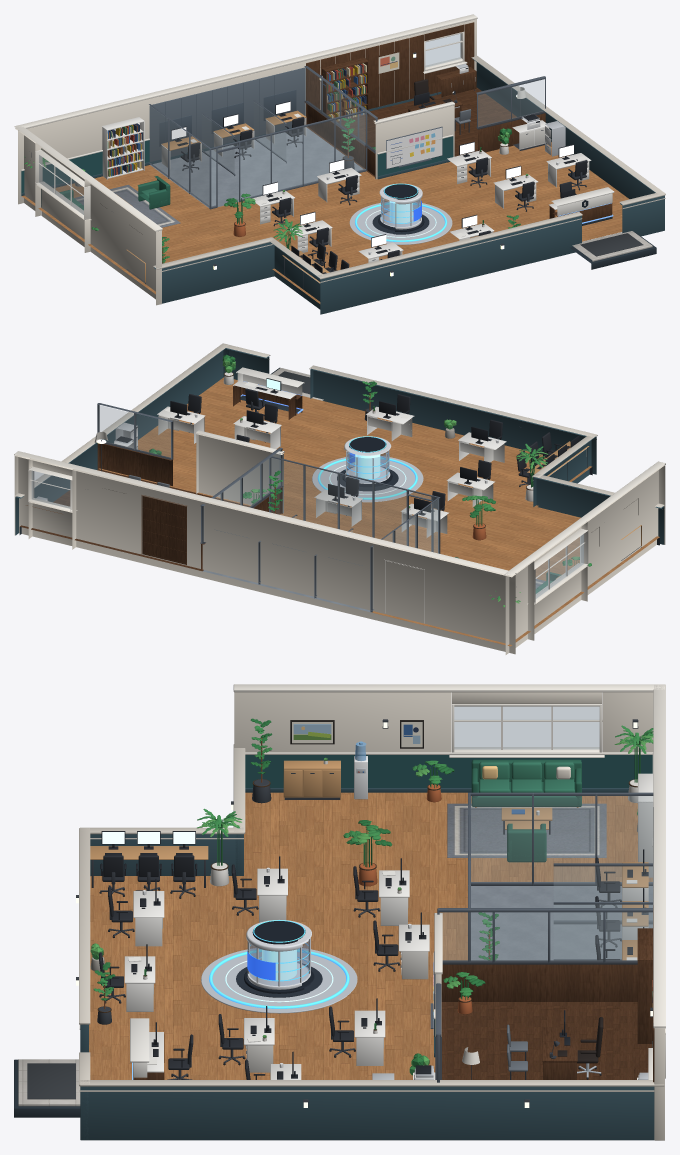
The model's file is office-medium.glb.
3 renders of one model, top to bottom at view 1: azimuth 30°, elevation 25°; view 2: azimuth 150°, elevation 25°; view 3: azimuth 270°, elevation 25°, orthographic. The views are drawn at different scales.
Visible parts, largest first — view 1: office_static, office_glass, office_emissive, inst:plant_tall_monstera:0; view 2: office_static, office_glass, office_emissive, inst:plant_tall_monstera:0, inst:plant_tall_palm:1; view 3: office_static, office_glass, office_emissive, inst:plant_tall_monstera:0, inst:plant_tall_palm:1, inst:plant_tall_fiddle:1, inst:plant_tall_palm:0, inst:chair_office:11, inst:plant_medium_monstera:0, inst:chair_office:13, inst:plant_medium_monstera:1, inst:chair_exec:0 (+1 smaller).
Part boxes in pixels (x1=…): office_static: x1=14, y1=14, x2=665, y2=314; office_glass: x1=39, y1=34, x2=544, y2=226; office_emissive: x1=138, y1=54, x2=613, y2=276; inst:plant_tall_monstera:0: x1=224, y1=193, x2=255, y2=236; office_static: x1=14, y1=343, x2=665, y2=654; office_glass: x1=31, y1=405, x2=583, y2=608; office_emissive: x1=97, y1=381, x2=417, y2=499; inst:plant_tall_monstera:0: x1=462, y1=495, x2=495, y2=540; inst:plant_tall_palm:1: x1=516, y1=443, x2=547, y2=501; office_static: x1=14, y1=684, x2=665, y2=1140; office_glass: x1=249, y1=706, x2=652, y2=985; office_emissive: x1=76, y1=722, x2=652, y2=1107; inst:plant_tall_monstera:0: x1=343, y1=820, x2=392, y2=886; inst:plant_tall_palm:1: x1=197, y1=808, x2=242, y2=886; inst:plant_tall_fiddle:1: x1=250, y1=718, x2=272, y2=803; inst:plant_tall_palm:0: x1=614, y1=725, x2=653, y2=803; inst:chair_office:11: x1=170, y1=855, x2=197, y2=898; inst:plant_medium_monstera:0: x1=443, y1=972, x2=485, y2=1014; inst:chair_office:13: x1=99, y1=855, x2=126, y2=896; inst:plant_medium_monstera:1: x1=412, y1=760, x2=454, y2=802; inst:chair_exec:0: x1=577, y1=1017, x2=603, y2=1079.
Size of the model in its own units: 18.34 by 2.87 by 14.74.
76 materials, 6 textured.
